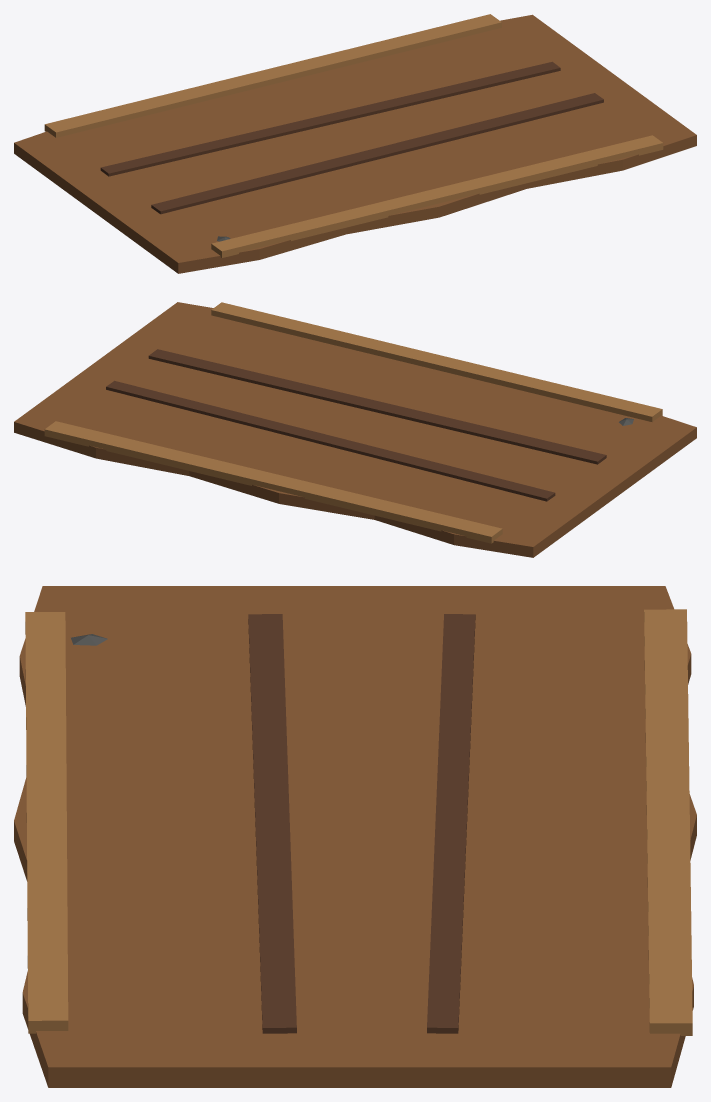
3 renders of one model, top to bottom at view 1: azimuth 30°, elevation 25°; view 2: azimuth 150°, elevation 25°; view 3: azimuth 270°, elevation 25°, orthographic. The views are drawn at different scales.
Visible parts, largest first — view 1: WK_TownHardscape_TH07_LOD1; view 2: WK_TownHardscape_TH07_LOD1; view 3: WK_TownHardscape_TH07_LOD1.
Boxes of the visible parts, x1,y1,x2,y2 form: WK_TownHardscape_TH07_LOD1: (14,14,696,273); WK_TownHardscape_TH07_LOD1: (14,302,696,557); WK_TownHardscape_TH07_LOD1: (14,586,696,1087).
Bounding box in the file's own units: 4 × 0.12 × 2.4.
